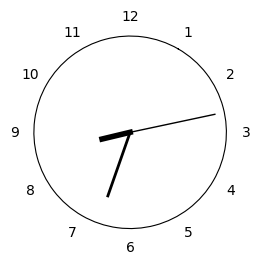12: (122, 9, 139, 23)
circle: (34, 35, 228, 230)
hours: (98, 129, 134, 142)
minutes: (106, 134, 130, 198)
seconds: (132, 113, 216, 132)
